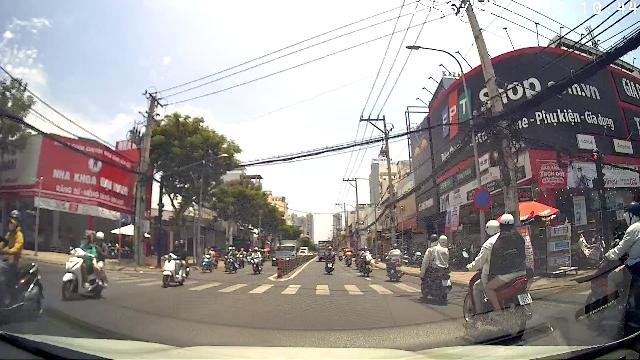131a-cam-do-xe: (472, 188, 492, 210)
